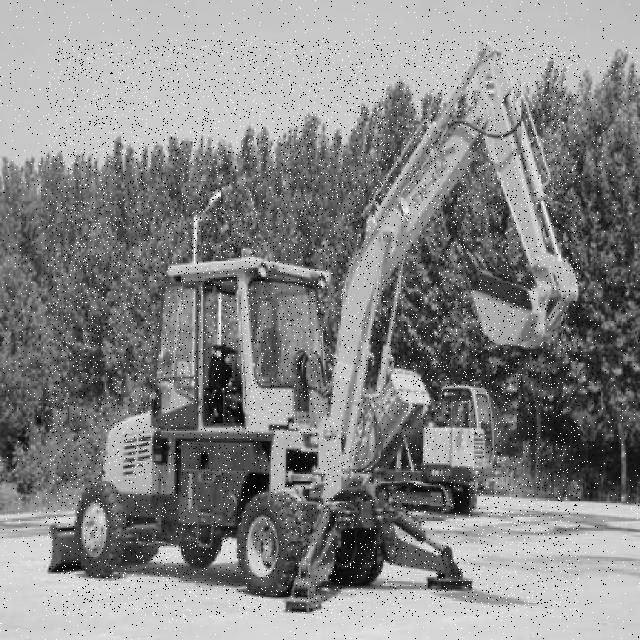Construction Equipment: (46, 39, 580, 617)
